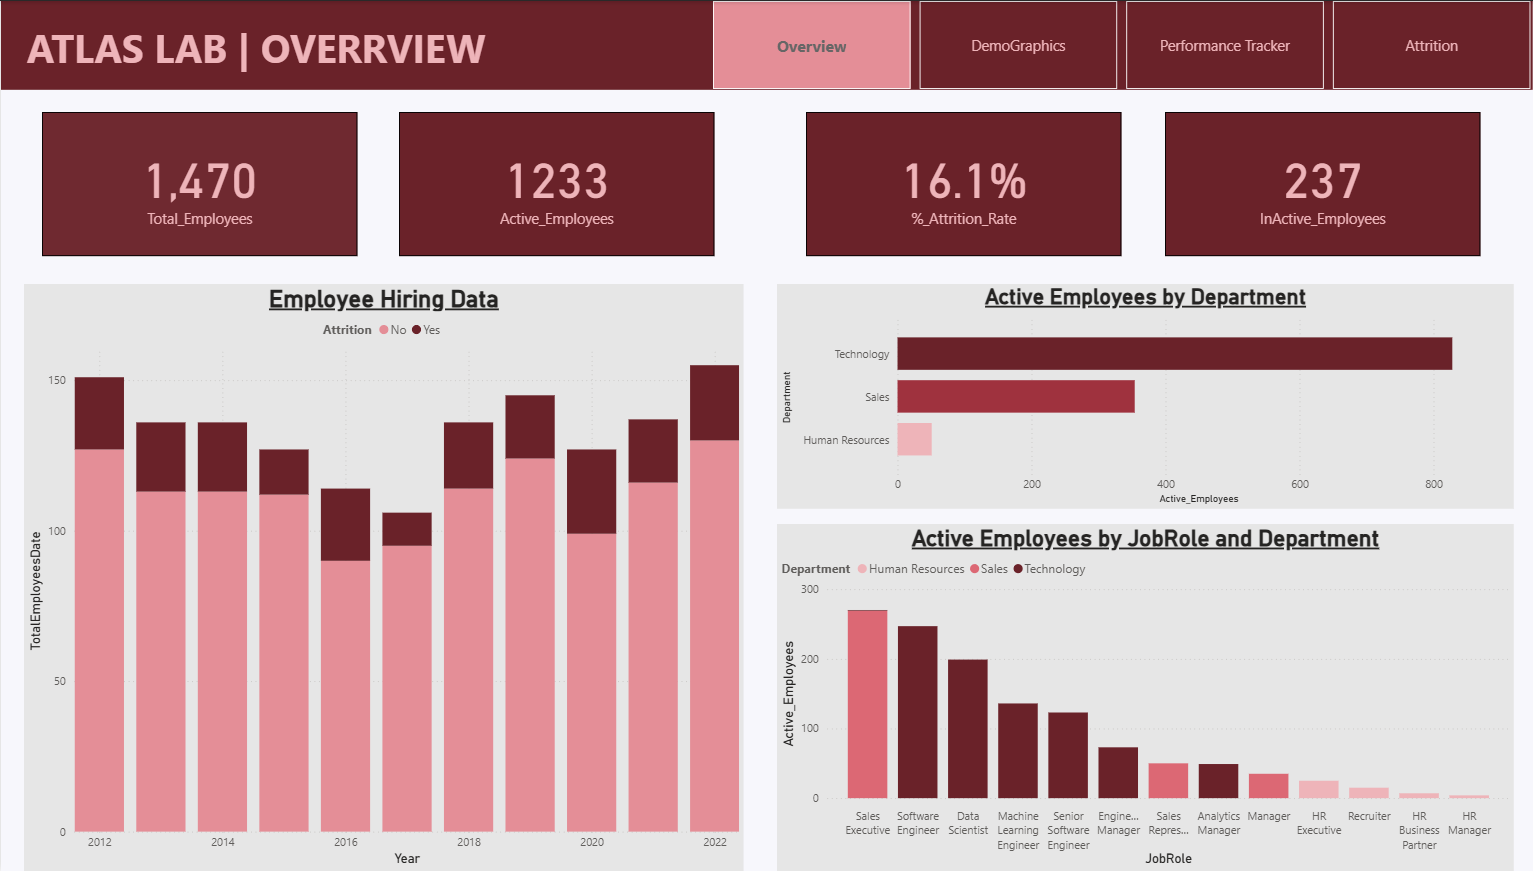

The dashboard page shown, as its layout file describes it:
{"tool":"powerbi","page":{"name":"Overview","canvas":[1690,960],"ordinal":0},"visuals":[{"type":"card","fields":{"Values":["_Measures.Total_Employees"]},"box":[45.3,122.8,348.3,158.6],"z":0},{"type":"card","fields":{"Values":["_Measures.Active_Employees"]},"box":[1284.5,122.8,348.3,158.6],"z":1000},{"type":"card","fields":{"Values":["_Measures.Inactive_Employees"]},"box":[438.9,122.8,348.3,158.6],"z":2000},{"type":"card","fields":{"Values":["_Measures.%_Attrition_Rate"]},"box":[888.5,122.8,348.3,158.6],"z":3000},{"type":"columnChart","title":"Employee Hiring Data","fields":{"Category":["DimDate.Date.Variation.Date Hierarchy.Year","DimDate.Date.Variation.Date Hierarchy.Quarter","DimDate.Date.Variation.Date Hierarchy.Month","DimDate.Date.Variation.Date Hierarchy.Day"],"Y":["_Measures.TotalEmployeesDate"],"Series":["Dim_Employee.Attrition"]},"box":[25,312.5,794.3,647.6],"z":4000},{"type":"clusteredBarChart","title":"Active Employees by Department","fields":{"Y":["_Measures.Active_Employees"],"Category":["Dim_Employee.Department"]},"box":[856.3,312.5,813.4,248.1],"z":5000},{"type":"columnChart","title":"Active Employees by JobRole and Department","fields":{"Category":["Dim_Employee.JobRole"],"Y":["_Measures.Active_Employees"],"Series":["Dim_Employee.Department"]},"box":[856.3,577.2,813.4,382.8],"z":6000},{"type":"textbox","box":[0,0,1690,97.8],"z":7000},{"type":"pageNavigator","box":[786.1,0,903.9,97.4],"z":11001}]}

Visuals, with their boxes in screenshot pixels (x1, y1, x2, y2), scaled from the page's 1690x960 canvas onto the 1533x871 screenshot:
card - _Measures.Total_Employees: bbox=(41, 111, 357, 255)
card - _Measures.Active_Employees: bbox=(1165, 111, 1481, 255)
card - _Measures.Inactive_Employees: bbox=(398, 111, 714, 255)
card - _Measures.%_Attrition_Rate: bbox=(806, 111, 1122, 255)
"Employee Hiring Data" columnChart: bbox=(23, 284, 743, 870)
"Active Employees by Department" clusteredBarChart: bbox=(777, 284, 1515, 509)
"Active Employees by JobRole and Department" columnChart: bbox=(777, 524, 1515, 870)
textbox: bbox=(0, 0, 1532, 89)
pageNavigator: bbox=(713, 0, 1532, 88)
